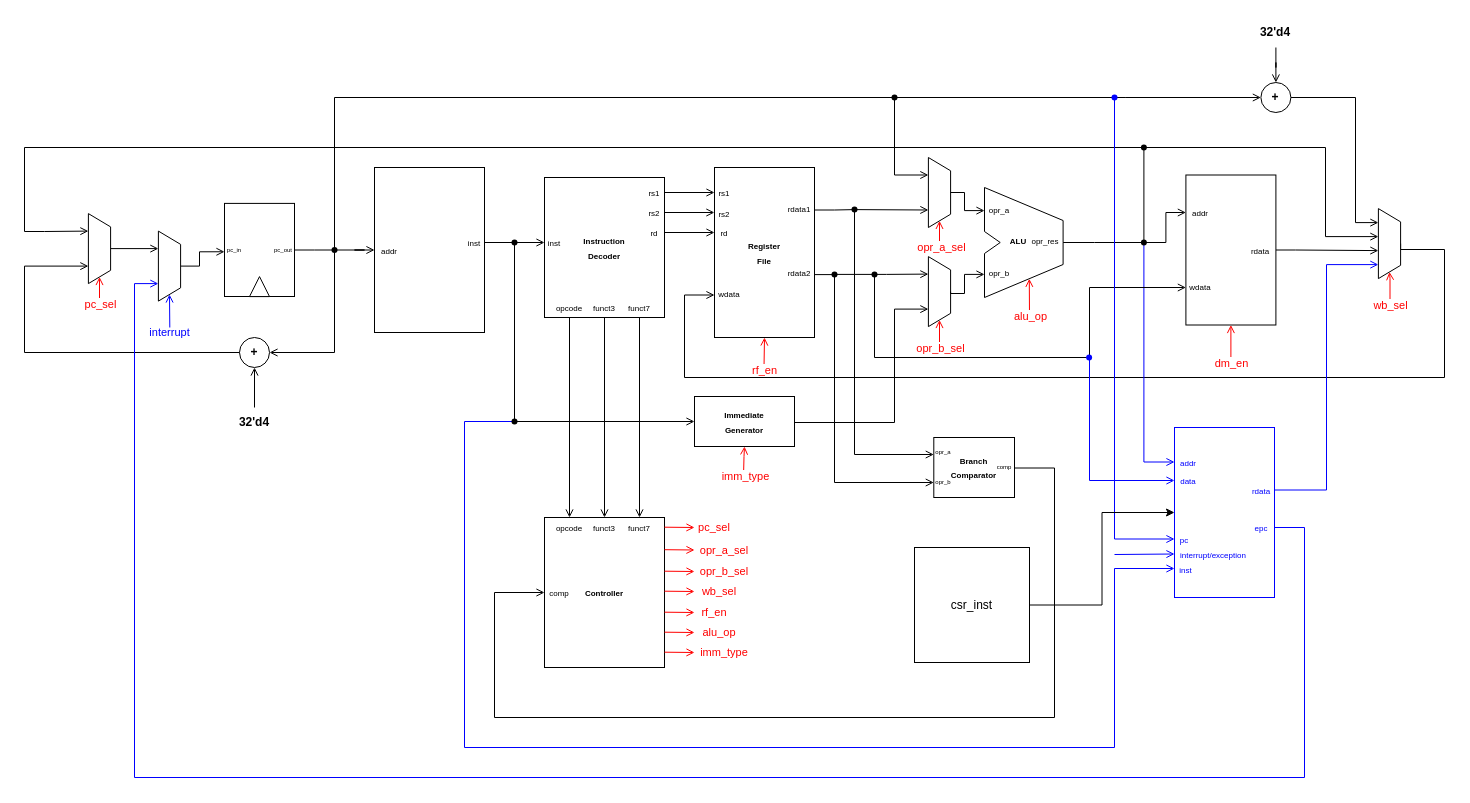
This 1470x803 diagram has some shape labels left out. The shapes that lost their labels are listed below. From the top down, each one's box as (x1, y1, x2, y2) in pixels, then its label:
(224, 202, 294, 296): Program Counter
(374, 166, 484, 332): Instruction Memory
(1185, 174, 1276, 325): Data Memory
(1174, 426, 1274, 598): CSR Register File
